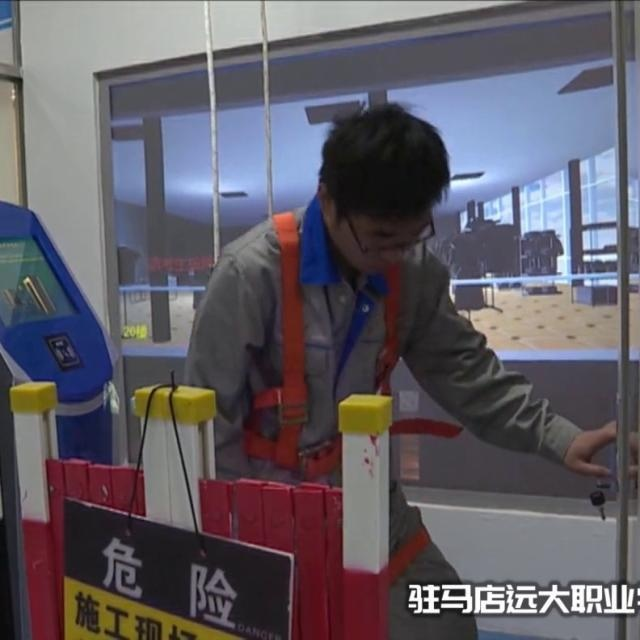Arnes_seguridad: (226, 204, 416, 476)
